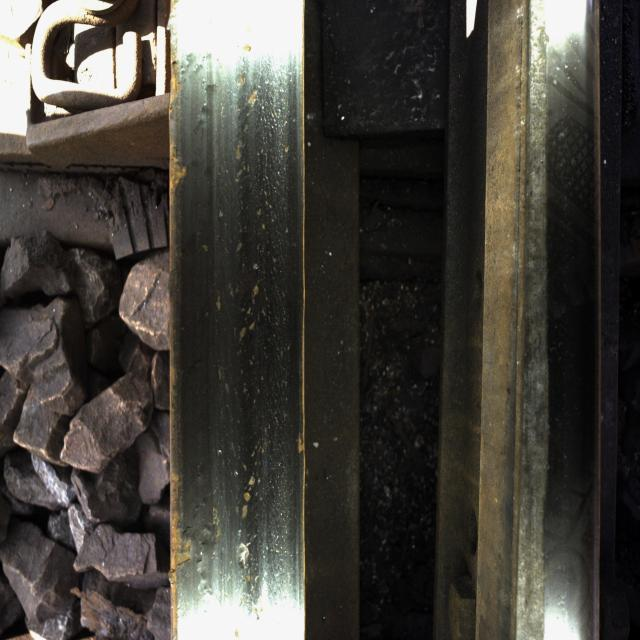scar: (168, 25, 282, 597)
